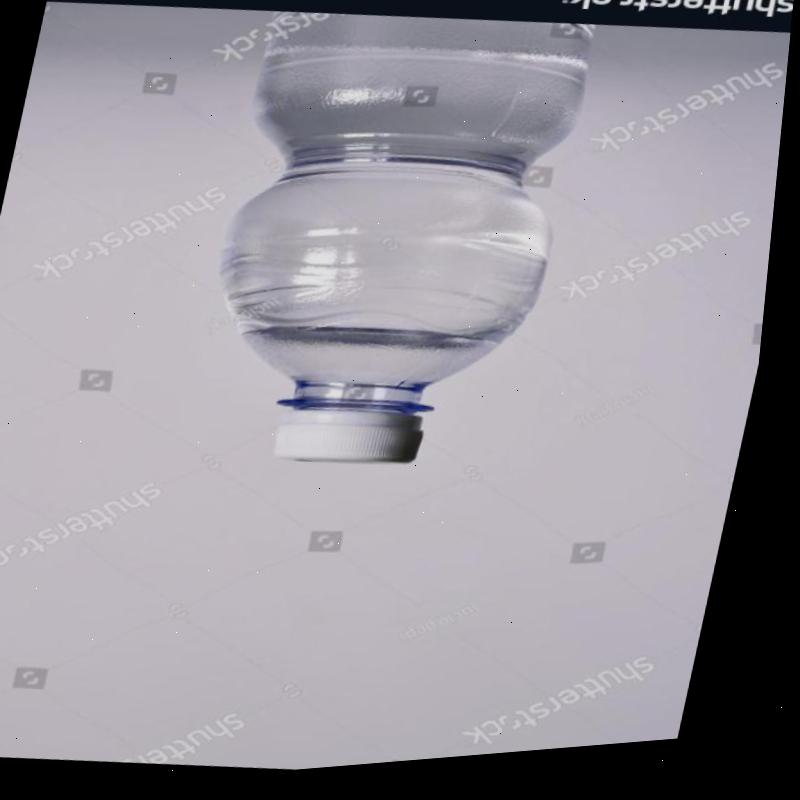botella: (184, 130, 583, 499)
